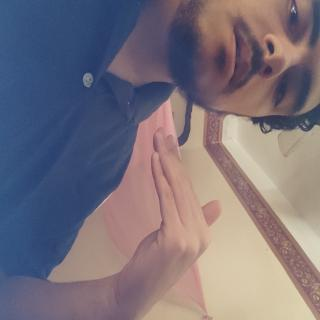KHAA: (88, 128, 239, 284)
